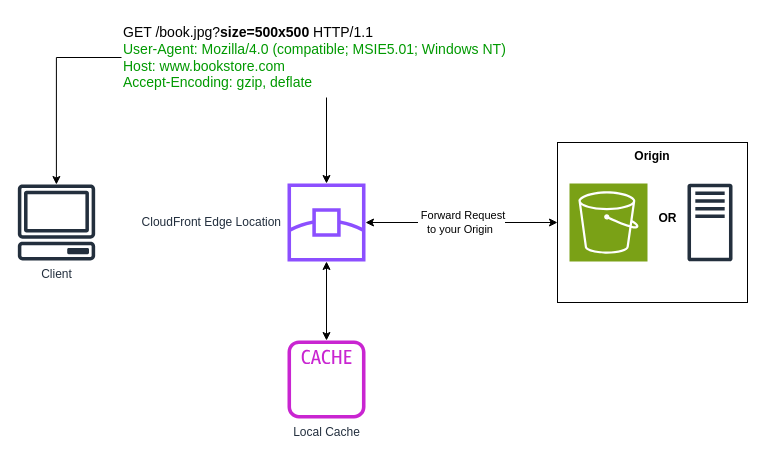
The diagram is 765 pixels wide and 456 high, and some of its shapes have lost their labels. The centre of each missing label's shape, as x and y in pixels:
Amazon S3: (608,222)
HTTP: (709,222)
